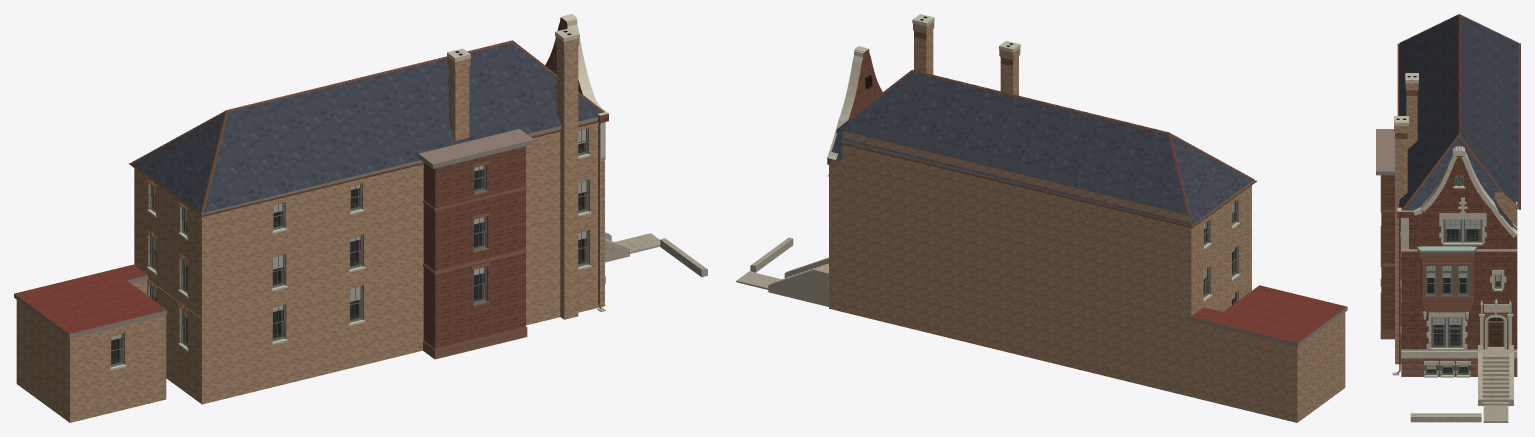
The model's file is mayer_house_2009_prairie__as_mapped_1904.glb.
3 views of the same model, side by side, from view 1: azimuth 30°, elevation 25°; view 2: azimuth 150°, elevation 25°; view 3: azimuth 270°, elevation 25° (orthographic). The views are drawn at different scales.
Visible parts, largest first — view 1: mayer_house_2009_prairie__as_mapped_1904; view 2: mayer_house_2009_prairie__as_mapped_1904; view 3: mayer_house_2009_prairie__as_mapped_1904.
Part boxes in pixels (<box>): mayer_house_2009_prairie__as_mapped_1904: <box>14,14,707,422</box>; mayer_house_2009_prairie__as_mapped_1904: <box>736,14,1347,422</box>; mayer_house_2009_prairie__as_mapped_1904: <box>1376,14,1520,422</box>.
Bounding box in the file's own units: 40.74 × 17.48 × 9.45.
31 materials, 18 textured.
